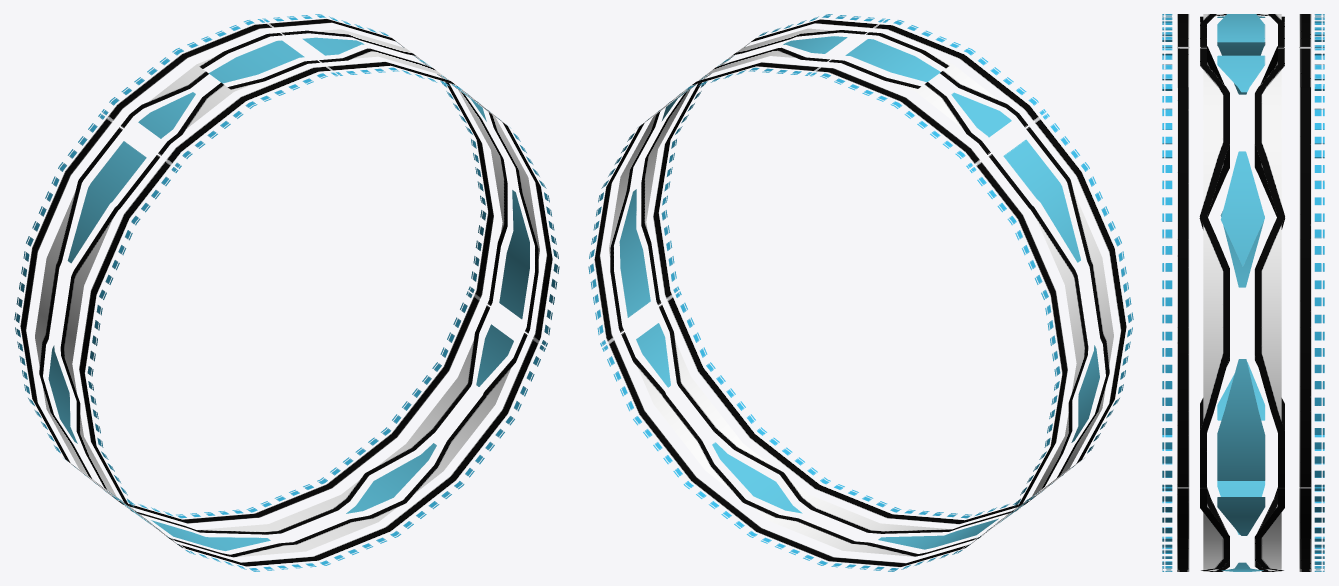
File: Rails.fbx
The picture shows the model from 3 angles, left to right: view 1: azimuth 30°, elevation 25°; view 2: azimuth 150°, elevation 25°; view 3: azimuth 270°, elevation 25°; orthographic projection. The views are drawn at different scales.
Visible parts, largest first — view 1: pCylinder1; view 2: pCylinder1; view 3: pCylinder1.
Boxes of the visible parts, left/top/right/bottom form: pCylinder1: left=14, top=14, right=559, bottom=571; pCylinder1: left=588, top=14, right=1133, bottom=571; pCylinder1: left=1162, top=14, right=1324, bottom=571.
Bounding box in the file's own units: 2.24 × 2.24 × 0.6474.
